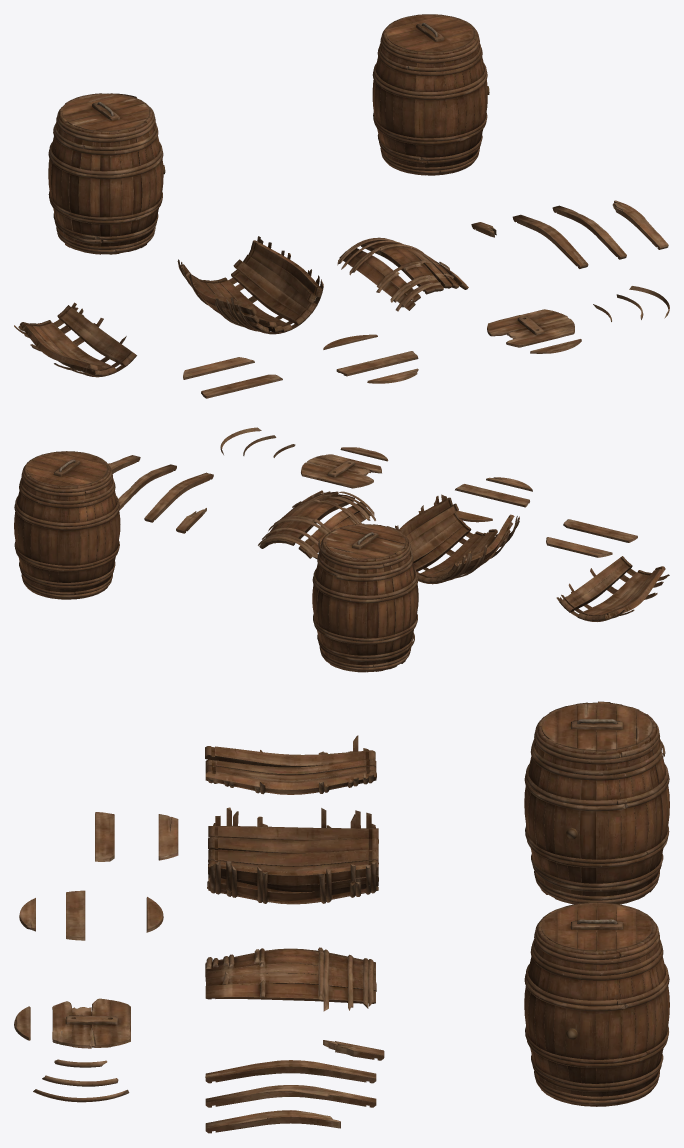
Rendered from wooden_barrels_01.glb.
The picture shows the model from 3 angles, top to bottom: view 1: azimuth 30°, elevation 25°; view 2: azimuth 150°, elevation 25°; view 3: azimuth 270°, elevation 25°; orthographic projection. The views are drawn at different scales.
Visible parts, largest first — view 1: wooden_barrels_01_barrel02, wooden_barrels_01_barrel01, wooden_barrels_01_piece01, wooden_barrels_01_piece03, wooden_barrels_01_piece02, wooden_barrels_01_piece08, wooden_barrels_01_piece04, wooden_barrels_01_piece05, wooden_barrels_01_piece06, wooden_barrels_01_piece11, wooden_barrels_01_piece14, wooden_barrels_01_piece13; view 2: wooden_barrels_01_barrel02, wooden_barrels_01_barrel01, wooden_barrels_01_piece01, wooden_barrels_01_piece03, wooden_barrels_01_piece02, wooden_barrels_01_piece08, wooden_barrels_01_piece04, wooden_barrels_01_piece14, wooden_barrels_01_piece11, wooden_barrels_01_piece05, wooden_barrels_01_piece13; view 3: wooden_barrels_01_barrel01, wooden_barrels_01_barrel02, wooden_barrels_01_piece01, wooden_barrels_01_piece03, wooden_barrels_01_piece02, wooden_barrels_01_piece08, wooden_barrels_01_piece04, wooden_barrels_01_piece05, wooden_barrels_01_piece06, wooden_barrels_01_piece11, wooden_barrels_01_piece14, wooden_barrels_01_piece13 (+1 smaller).
Boxes of the visible parts, x1,y1,x2,y2 form: wooden_barrels_01_barrel02: (48,93,165,254); wooden_barrels_01_barrel01: (372,14,489,175); wooden_barrels_01_piece01: (177,236,323,334); wooden_barrels_01_piece03: (337,237,468,311); wooden_barrels_01_piece02: (14,302,136,377); wooden_barrels_01_piece08: (487,309,574,347); wooden_barrels_01_piece04: (512,214,588,268); wooden_barrels_01_piece05: (552,205,626,259); wooden_barrels_01_piece06: (612,200,668,249); wooden_barrels_01_piece11: (336,351,418,376); wooden_barrels_01_piece14: (201,374,282,398); wooden_barrels_01_piece13: (183,357,254,379); wooden_barrels_01_barrel02: (312,523,418,672); wooden_barrels_01_barrel01: (14,451,120,599); wooden_barrels_01_piece01: (395,494,519,584); wooden_barrels_01_piece03: (258,490,375,558); wooden_barrels_01_piece02: (556,556,669,621); wooden_barrels_01_piece08: (301,454,381,488); wooden_barrels_01_piece04: (144,472,213,522); wooden_barrels_01_piece14: (563,519,637,542); wooden_barrels_01_piece11: (455,484,529,507); wooden_barrels_01_piece05: (118,464,176,510); wooden_barrels_01_piece13: (546,537,612,557); wooden_barrels_01_barrel01: (524,902,669,1106); wooden_barrels_01_barrel02: (524,701,669,904); wooden_barrels_01_piece01: (207,807,378,904); wooden_barrels_01_piece03: (205,947,376,1011); wooden_barrels_01_piece02: (205,735,376,794); wooden_barrels_01_piece08: (52,998,130,1048); wooden_barrels_01_piece04: (205,1060,376,1083); wooden_barrels_01_piece05: (205,1085,376,1107); wooden_barrels_01_piece06: (205,1110,340,1133); wooden_barrels_01_piece11: (66,890,85,940); wooden_barrels_01_piece14: (95,812,114,861); wooden_barrels_01_piece13: (158,814,178,860).
Bounding box in the file's own units: 4.44 × 0.9567 × 3.34.
3 materials, 3 textured.
